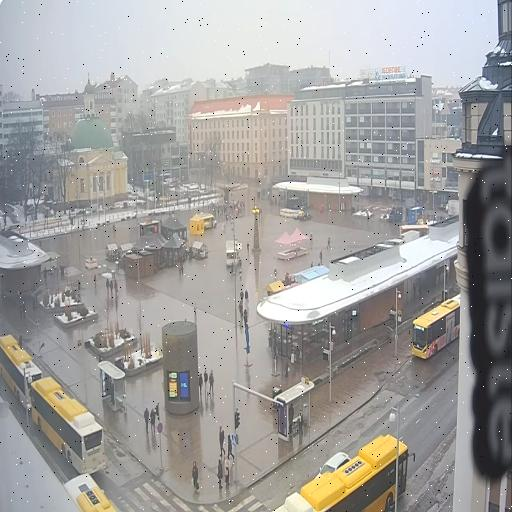Bus: (273, 435, 415, 511), (31, 377, 105, 472), (0, 334, 41, 410), (412, 295, 460, 359), (64, 474, 116, 511)
